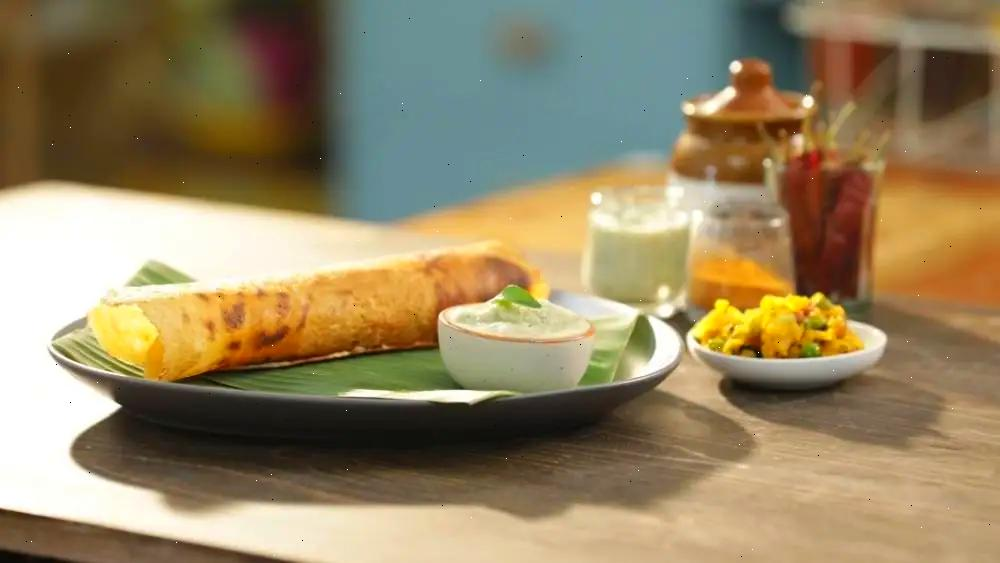aloo sabji: (666, 286, 855, 374)
coconut chutney: (458, 286, 573, 352)
dosa: (106, 271, 518, 342)
